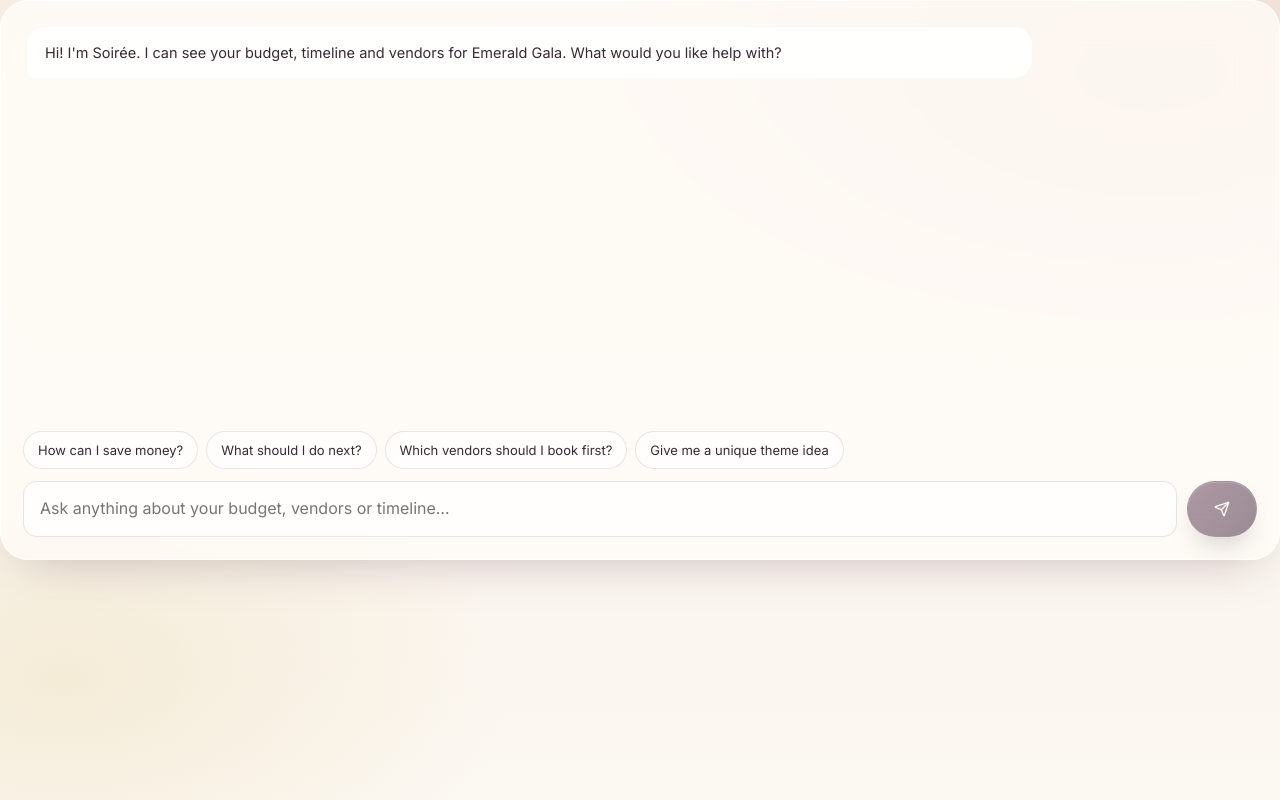
Test: Tabs Component Suite: Timeline, Ideas, Moodboard, Ask, Vendors › renders AskTab and handles question submission with reply
In the field named "Ask Soirée": [600, 509] box [23,481,1177,537], type "What cocktails fit?"
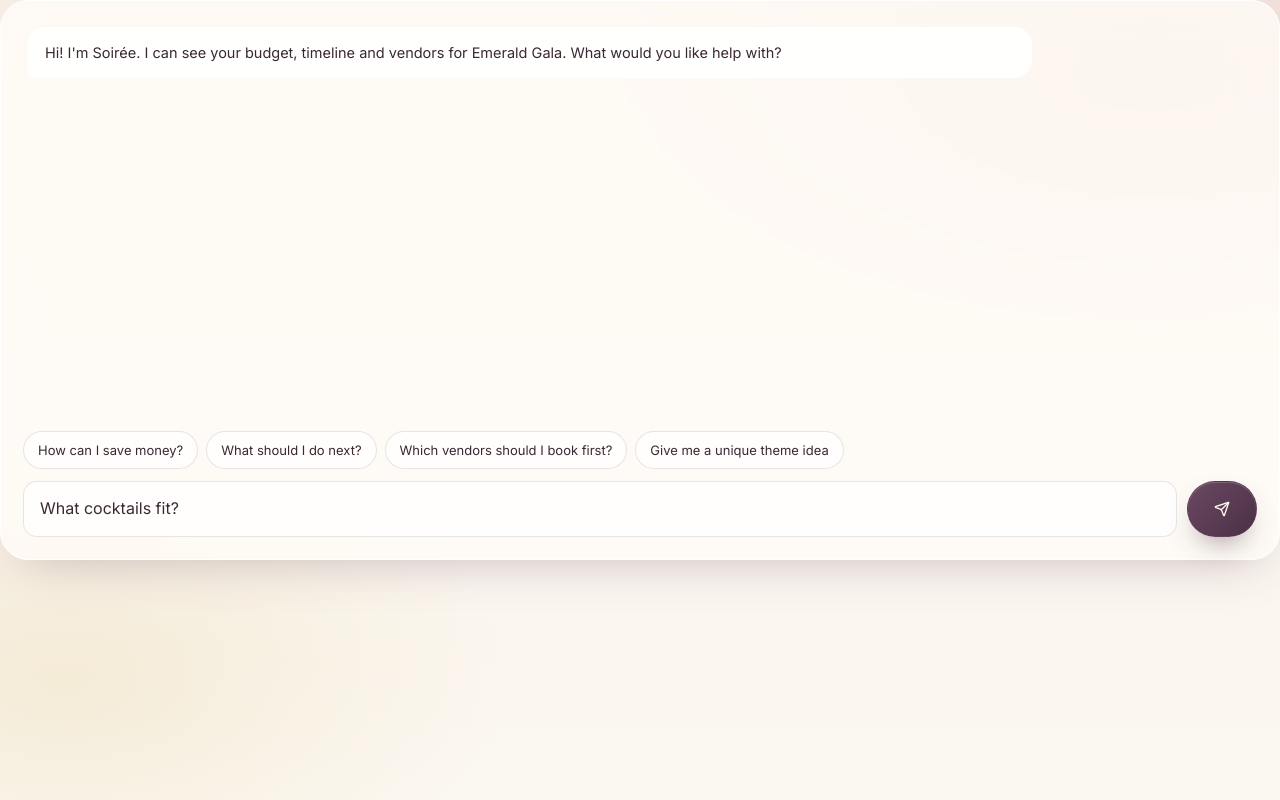
Click the button named "send": [1222, 509] box [1187,481,1257,537]
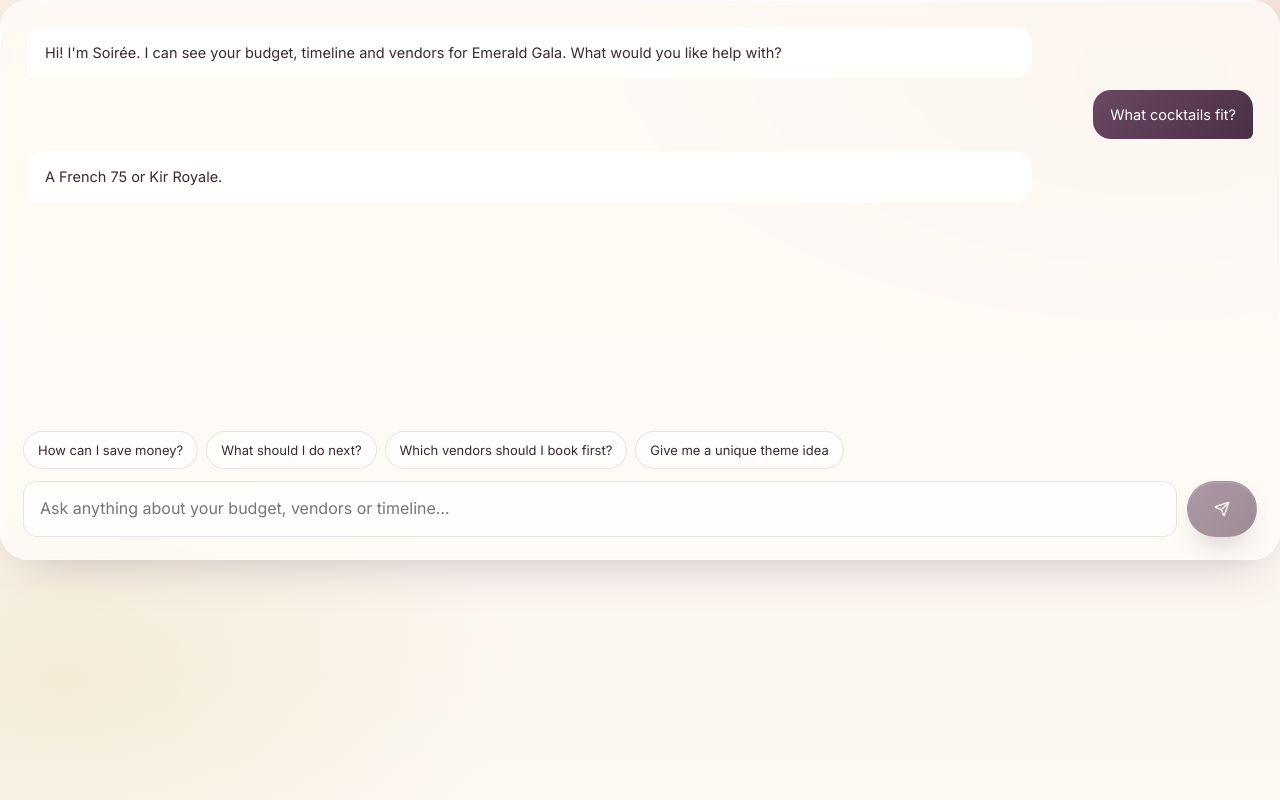
Now the text "A French 75 or Kir Royale." is shown, box [27,151,1032,203]
